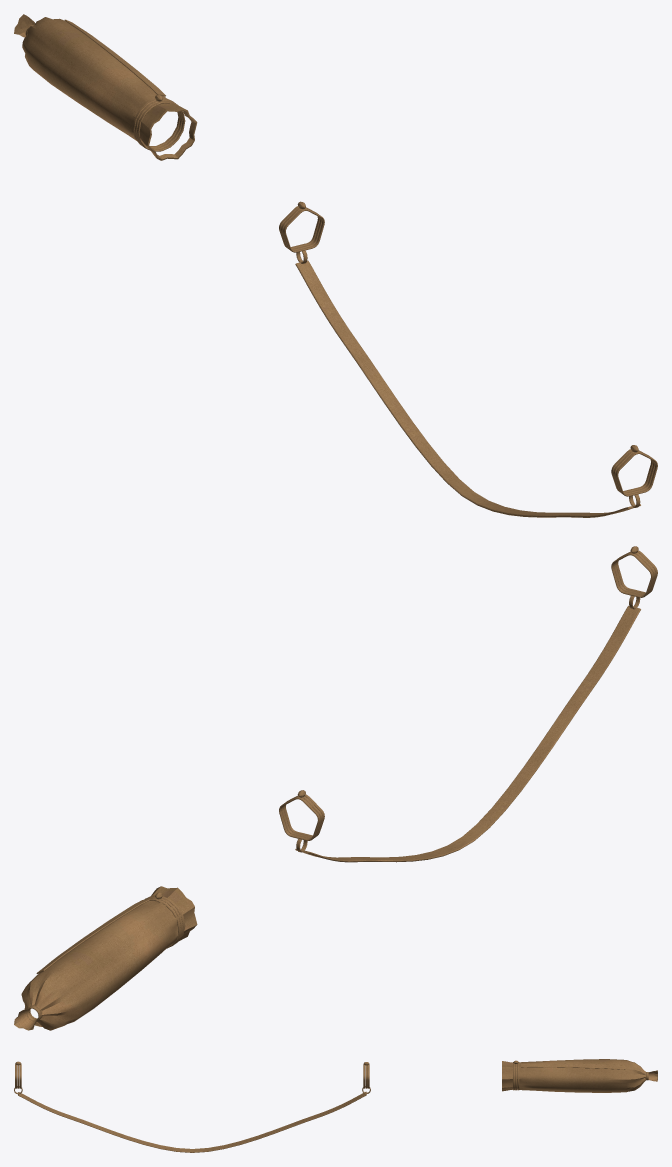
Rendered from dart_bundle.glb.
The picture shows the model from 3 angles, top to bottom: view 1: azimuth 30°, elevation 25°; view 2: azimuth 150°, elevation 25°; view 3: azimuth 270°, elevation 25°; orthographic projection. The views are drawn at different scales.
Parts seen in each view (by area): view 1: DartBundle, ThongPreview; view 2: DartBundle, ThongPreview; view 3: DartBundle, ThongPreview.
Boxes of the visible parts, left/top/right/bottom form: DartBundle: left=14, top=14, right=657, bottom=507; ThongPreview: left=295, top=260, right=640, bottom=517; DartBundle: left=14, top=546, right=657, bottom=1030; ThongPreview: left=295, top=605, right=640, bottom=862; DartBundle: left=14, top=1059, right=657, bottom=1094; ThongPreview: left=18, top=1091, right=366, bottom=1152.
Size of the model in its own units: 0.0649 by 0.1899 by 1.22.
1 material, 1 textured.
